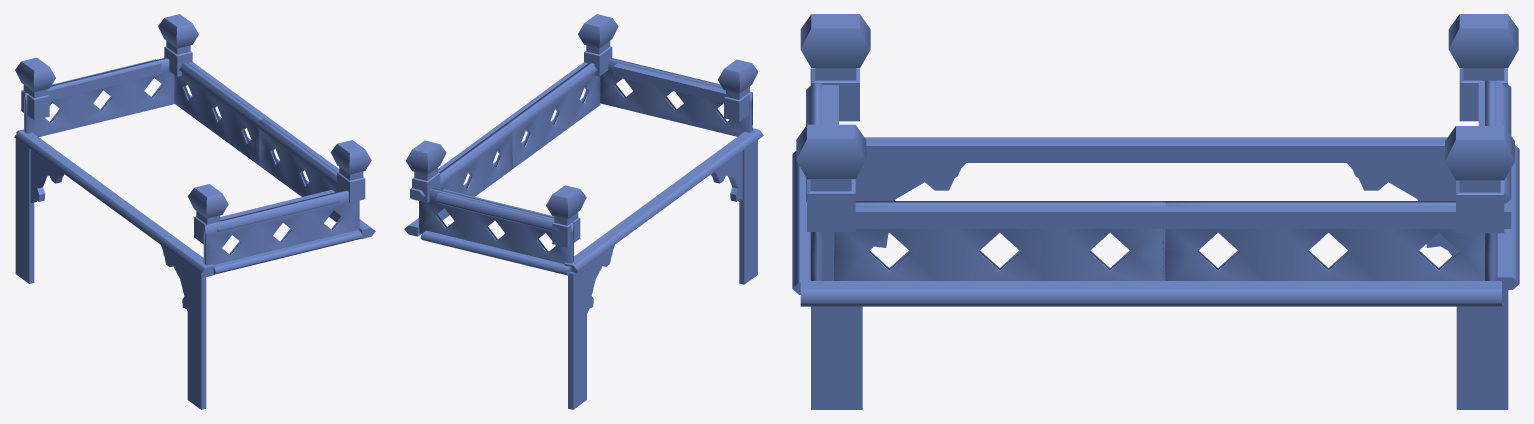
The model's file is Cupboard_04B_Lod0.fbx.
3 views of the same model, side by side, from view 1: azimuth 30°, elevation 25°; view 2: azimuth 150°, elevation 25°; view 3: azimuth 270°, elevation 25° (orthographic). The views are drawn at different scales.
Visible parts, largest first — view 1: Cupboard_04B_Lod0; view 2: Cupboard_04B_Lod0; view 3: Cupboard_04B_Lod0.
Boxes of the visible parts, bbox=[...] form: Cupboard_04B_Lod0: bbox=[14, 14, 375, 409]; Cupboard_04B_Lod0: bbox=[404, 14, 763, 409]; Cupboard_04B_Lod0: bbox=[792, 14, 1519, 409].
Bounding box in the file's own units: 48.63 × 58.83 × 93.32.
